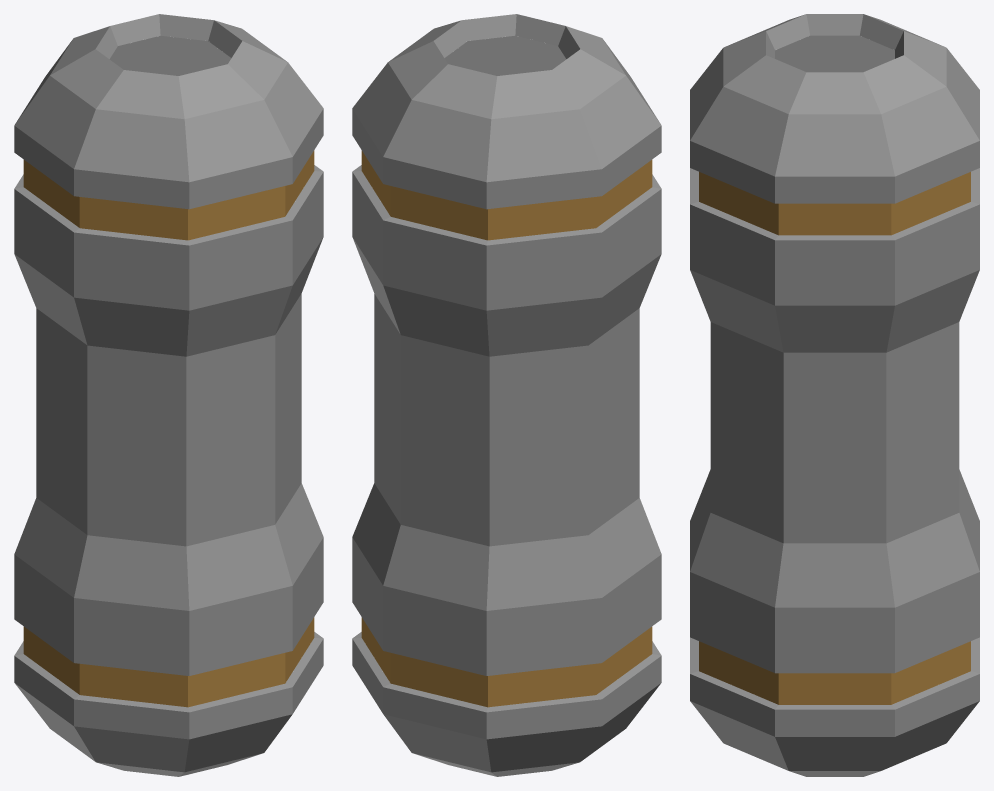
File: Props_Vessel.glb
3 renders of one model, left to right at view 1: azimuth 30°, elevation 25°; view 2: azimuth 150°, elevation 25°; view 3: azimuth 270°, elevation 25°, orthographic.
Visible parts, largest first — view 1: Main, Accent, DarkGrey; view 2: Main, Accent, DarkGrey; view 3: Main, Accent, DarkGrey.
Part boxes in pixels (box(x1,y1,x2,y2)): Main: box(14, 14, 323, 776); Accent: box(23, 150, 314, 707); DarkGrey: box(109, 35, 231, 75); Main: box(352, 14, 661, 776); Accent: box(361, 150, 652, 707); DarkGrey: box(444, 35, 566, 75); Main: box(690, 14, 979, 776); Accent: box(699, 172, 970, 704); DarkGrey: box(775, 35, 894, 72).
Bounding box in the file's own units: 0.2873 × 0.7705 × 0.2873.
